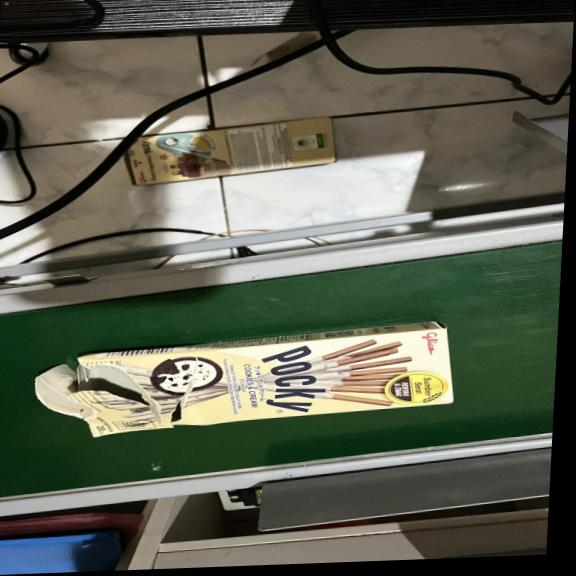Kertas: (83, 324, 457, 440)
